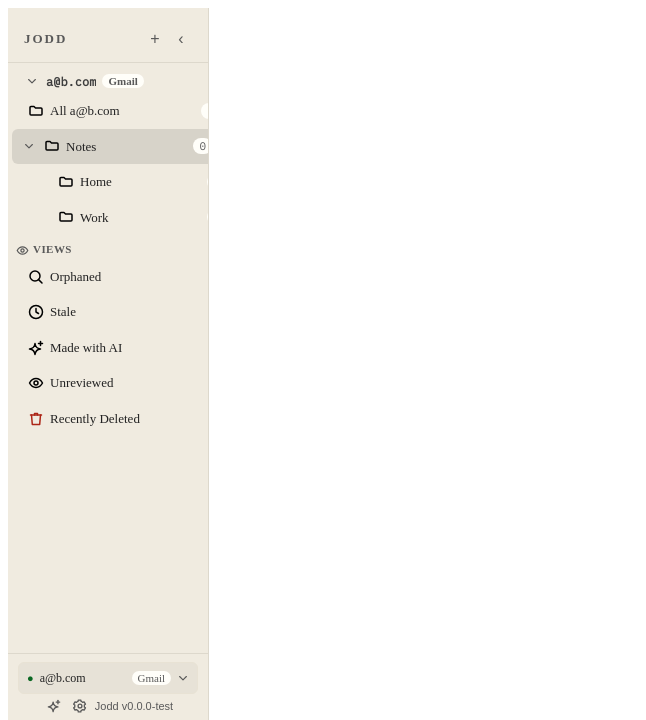
Test: folder menu: Generate with Studio… › is absent on an account that cannot write notes
Expected: the text titled "Work" is shown, [80,210,109,224]
Right-click the button titled "Work" at (66, 217), box [58,209,226,225]
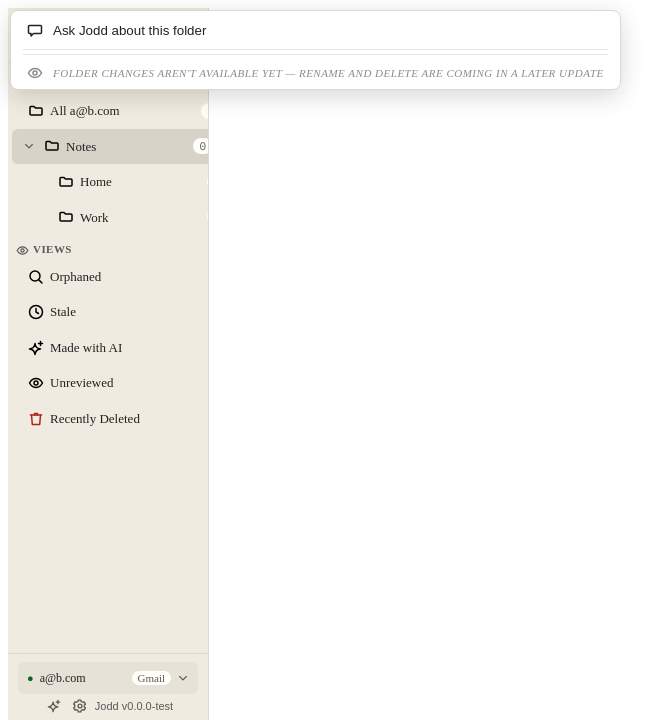
Expected: the button "Ask Jodd about this folder" is shown, [15,15,616,45]
